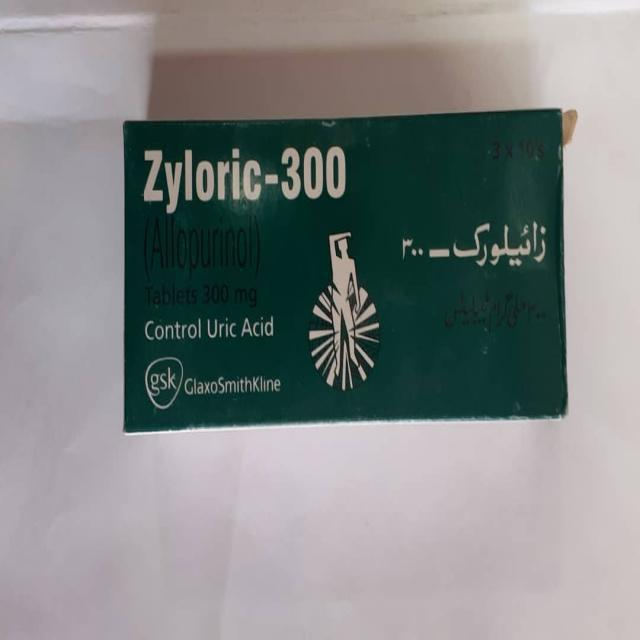drug-name: (141, 144, 351, 212)
